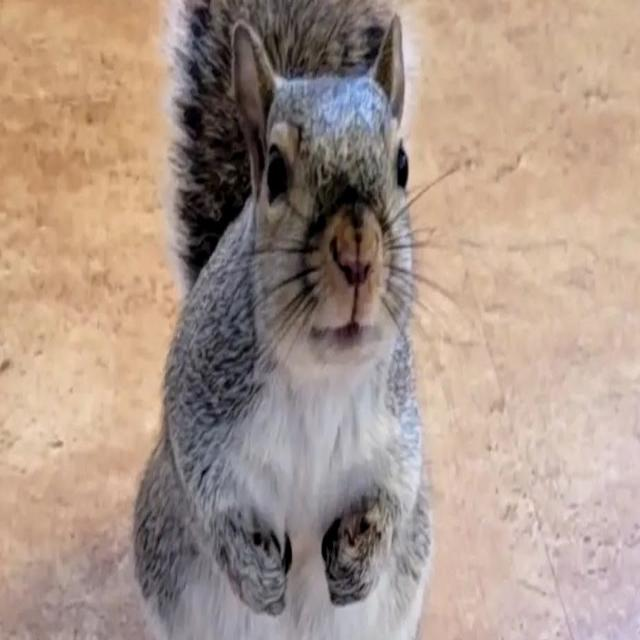Squirrel: (141, 0, 436, 640)
